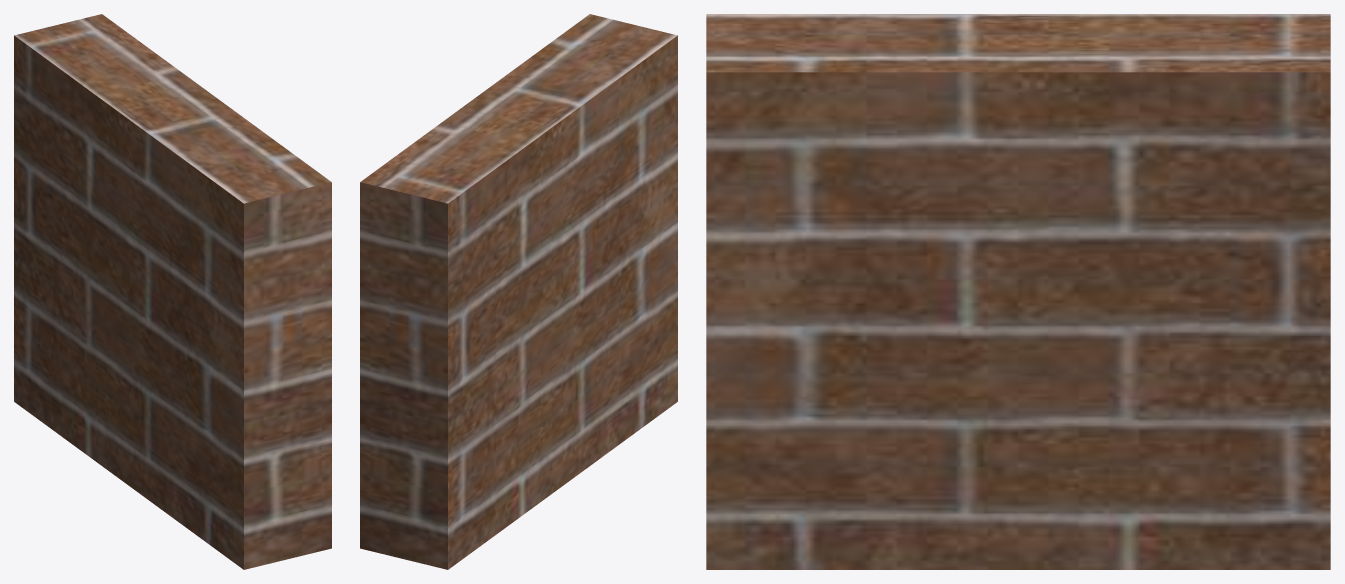
Rendered from Joglo_part_324.fbx.
3 views of the same model, side by side, from view 1: azimuth 30°, elevation 25°; view 2: azimuth 150°, elevation 25°; view 3: azimuth 270°, elevation 25° (orthographic). The views are drawn at different scales.
Parts seen in each view (by area): view 1: Mesh384_Brick___Brown_0.001; view 2: Mesh384_Brick___Brown_0.001; view 3: Mesh384_Brick___Brown_0.001.
Part boxes in pixels (<box>): Mesh384_Brick___Brown_0.001: <box>14,14,331,569</box>; Mesh384_Brick___Brown_0.001: <box>360,14,677,569</box>; Mesh384_Brick___Brown_0.001: <box>706,14,1330,569</box>.
Bounding box in the file's own units: 3.94 × 15.68 × 17.82.
